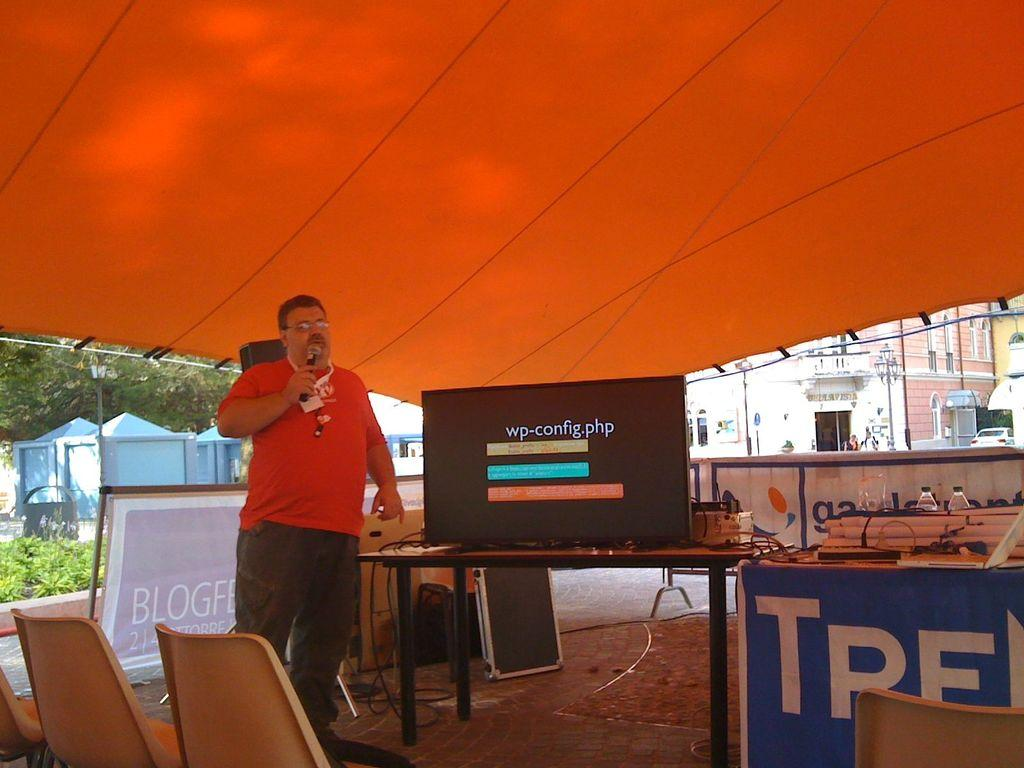Chair: (853, 686, 1023, 767)
Computer-monitor: (419, 373, 693, 551)
